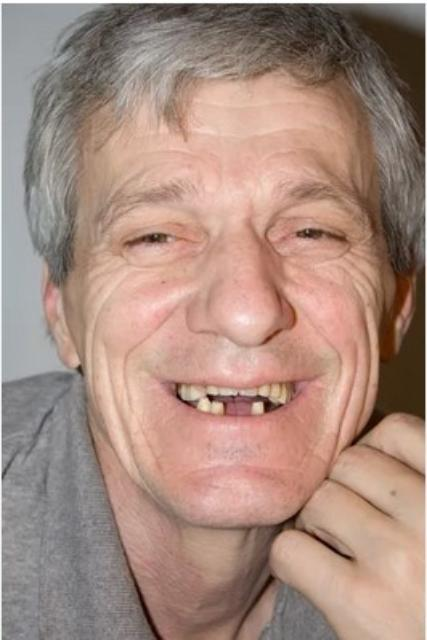crows_feet: (80, 232, 124, 280), (342, 222, 376, 282)
forehead: (104, 161, 148, 191), (207, 92, 256, 118), (259, 116, 299, 142), (161, 137, 197, 159)
gummy_smile: (112, 338, 140, 392), (318, 338, 350, 380)
masseter: (347, 299, 380, 379), (327, 391, 367, 445), (76, 308, 104, 378)
